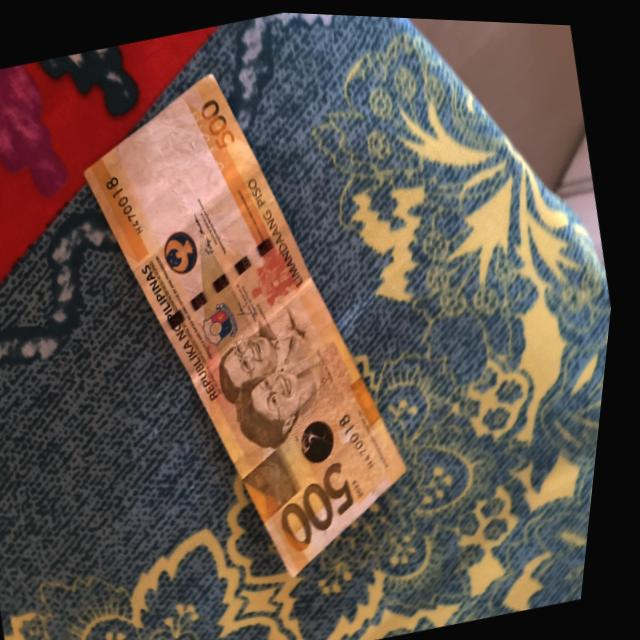concealed_value: (246, 442, 314, 517)
optically_variable_device: (301, 411, 350, 467)
see_through_mark: (186, 98, 234, 180)
watermark: (108, 103, 235, 238)
